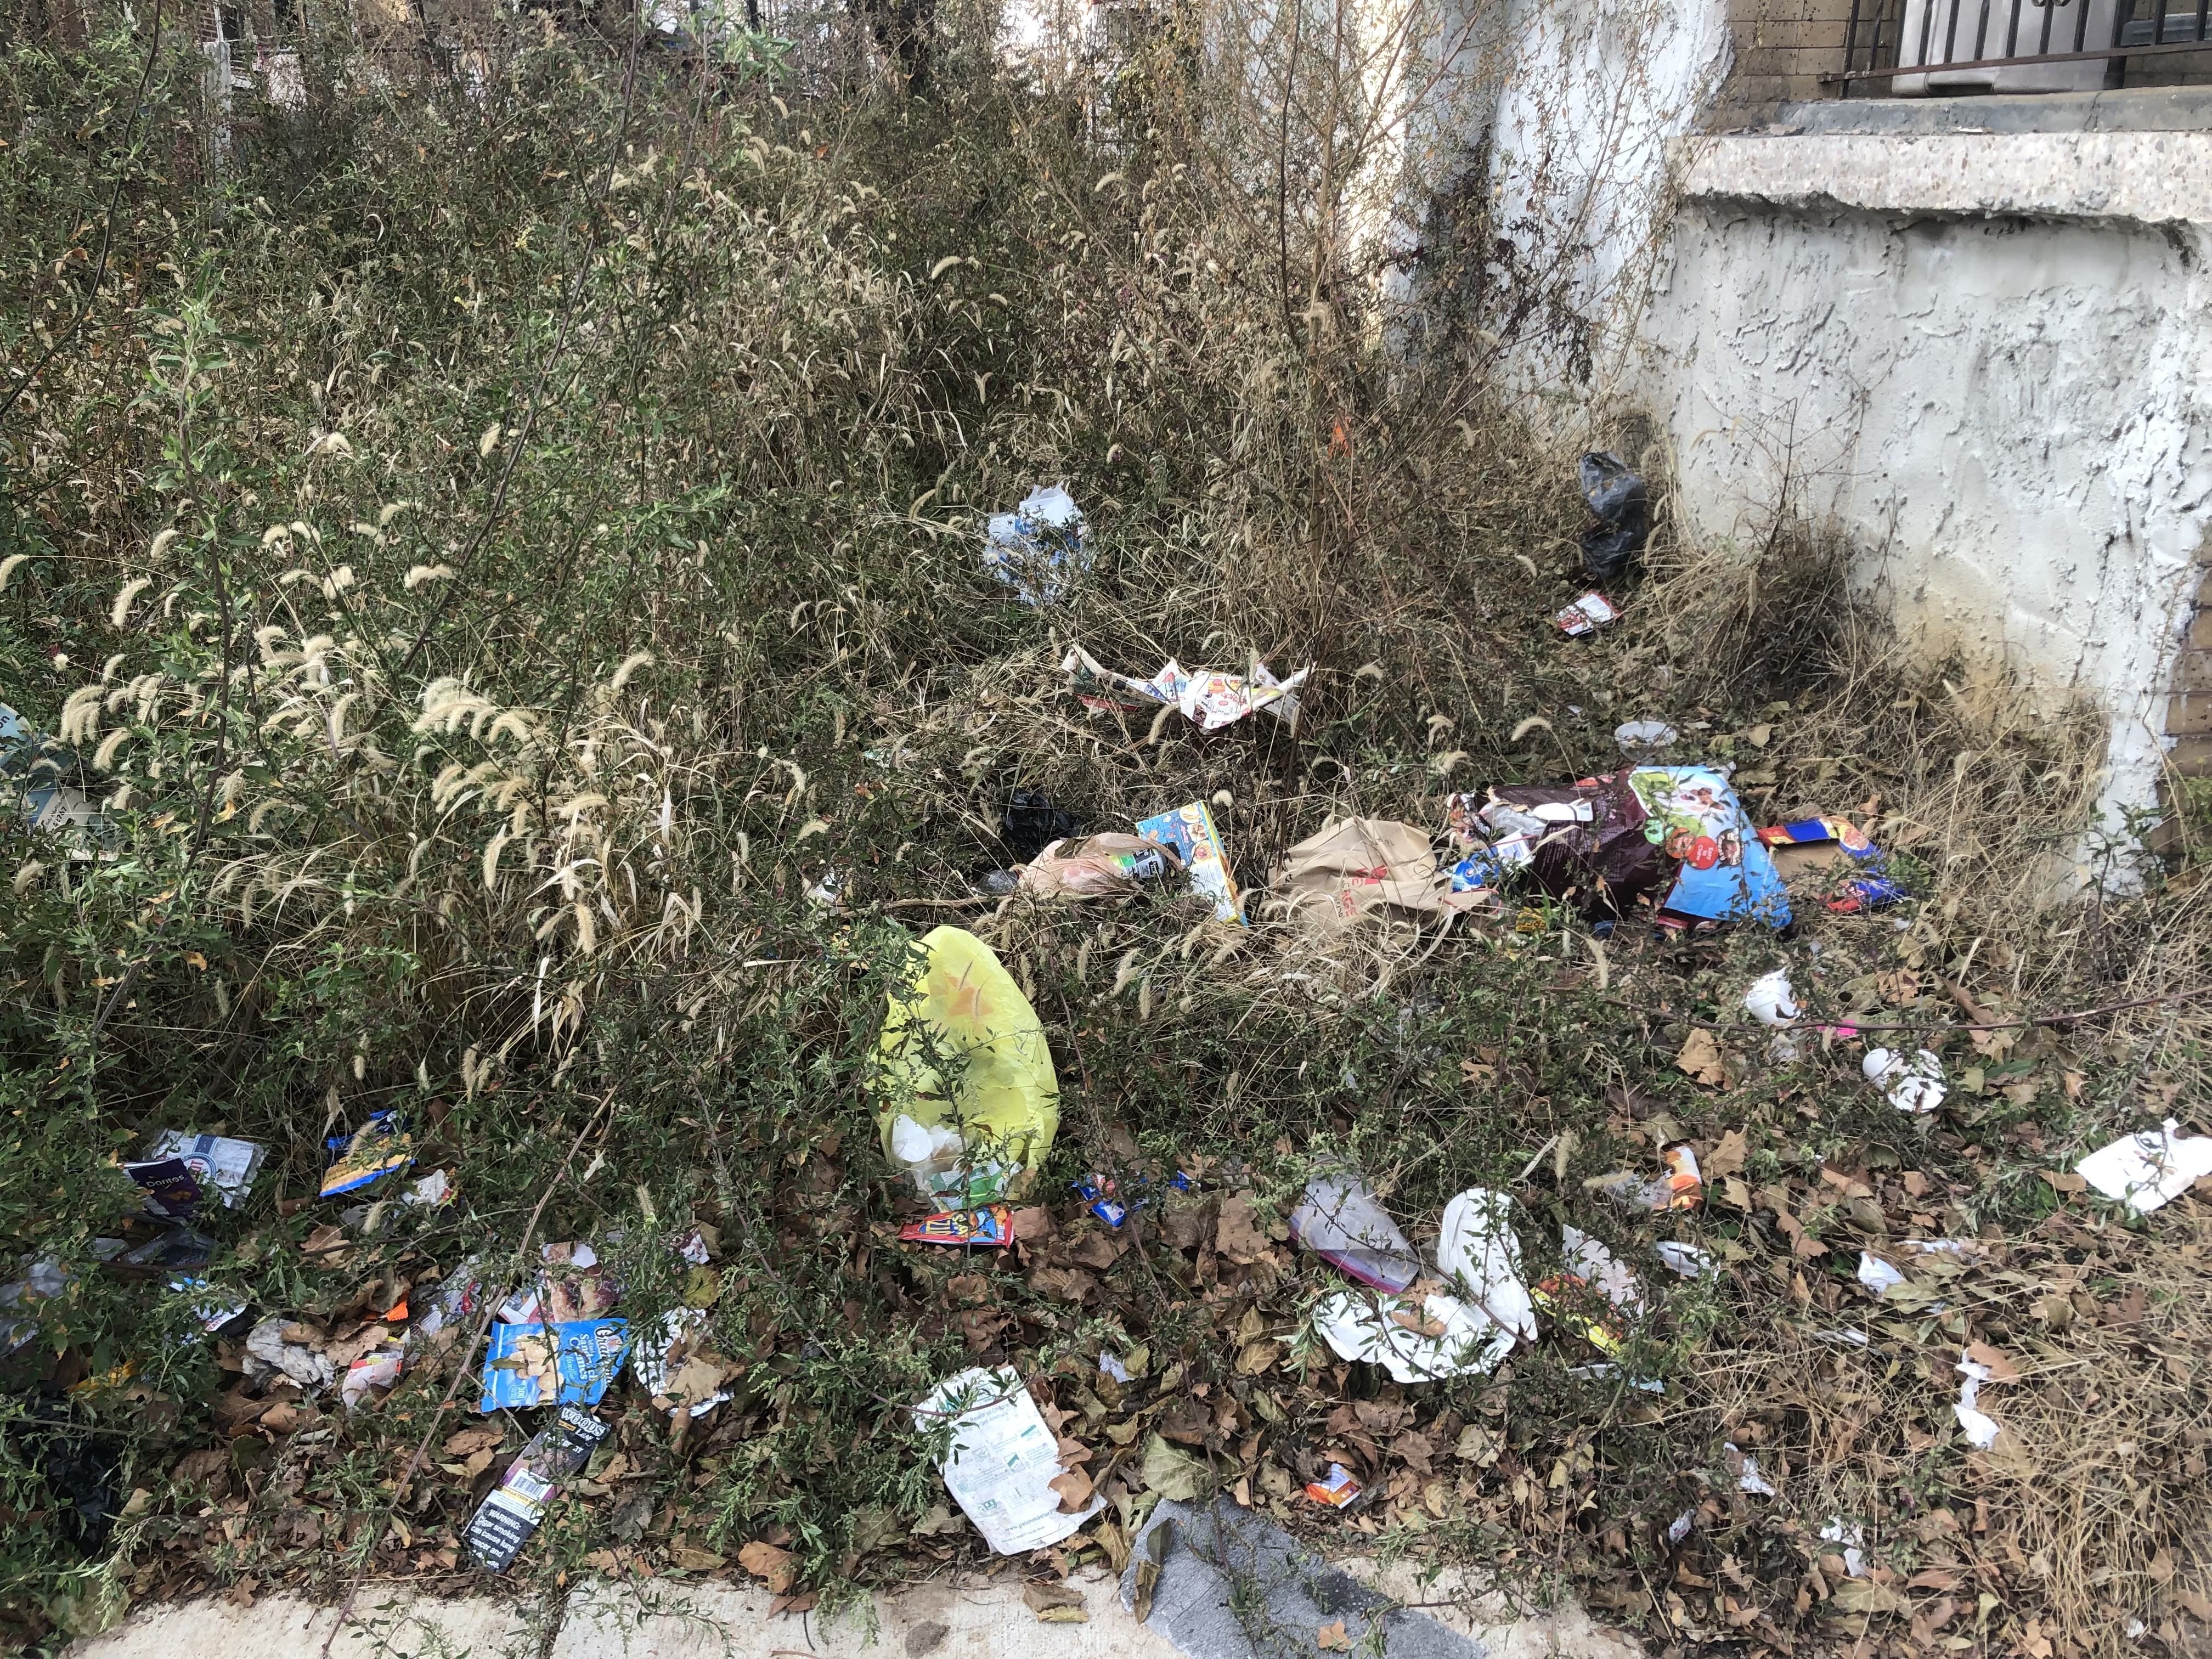rough_lawn: (63, 240, 2130, 1615)
trash: (716, 816, 1176, 1288), (345, 1112, 777, 1546), (932, 716, 1334, 1096), (1193, 1119, 1602, 1448), (822, 1338, 1169, 1547)
